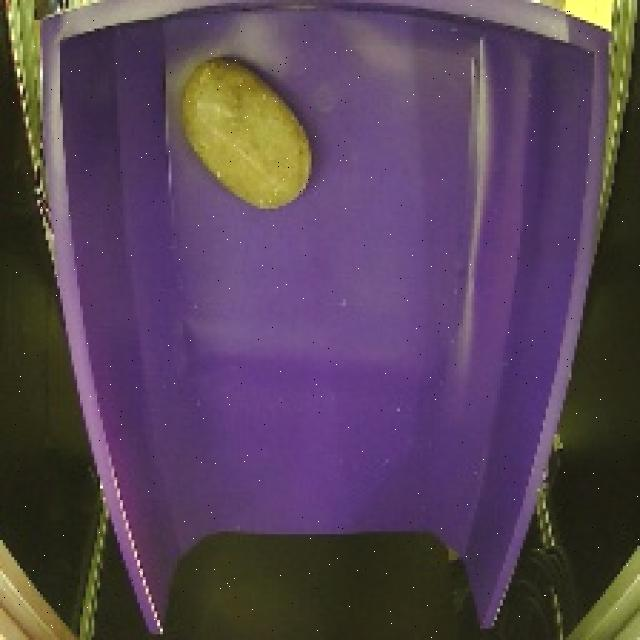cobbles: (172, 49, 320, 218)
